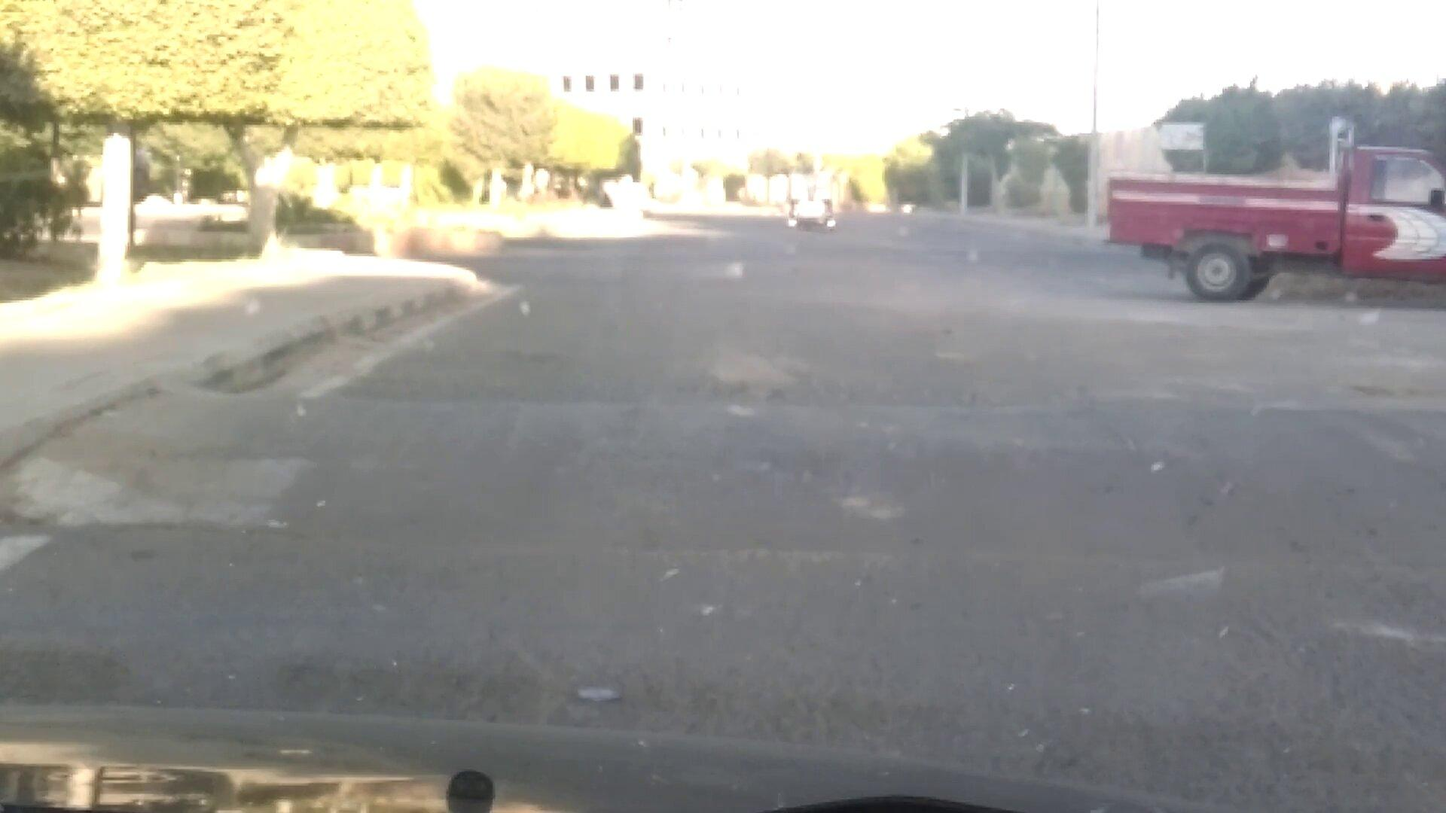Bump: (13, 380, 1446, 715)
